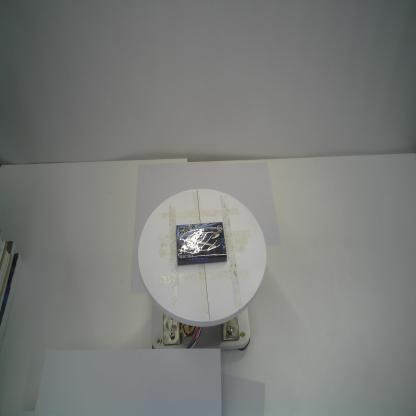Gum: (172, 218, 229, 268)
